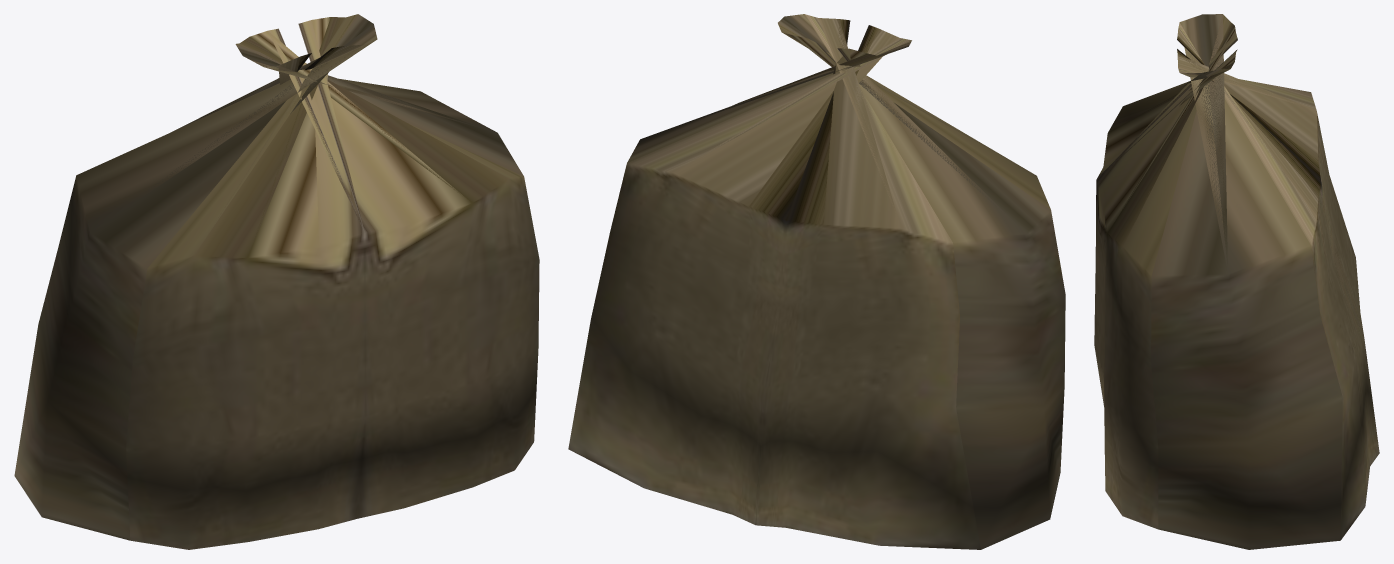
The model's file is bottom.fbx.
3 renders of one model, left to right at view 1: azimuth 30°, elevation 25°; view 2: azimuth 150°, elevation 25°; view 3: azimuth 270°, elevation 25°, orthographic. The views are drawn at different scales.
Visible parts, largest first — view 1: Mesh_001; view 2: Mesh_001; view 3: Mesh_001.
Part boxes in pixels (x1,y1,x2,y2): Mesh_001: (14,14,539,549); Mesh_001: (568,14,1065,549); Mesh_001: (1094,14,1379,549).
Bounding box in the file's own units: 8.93 × 8.02 × 5.02.
